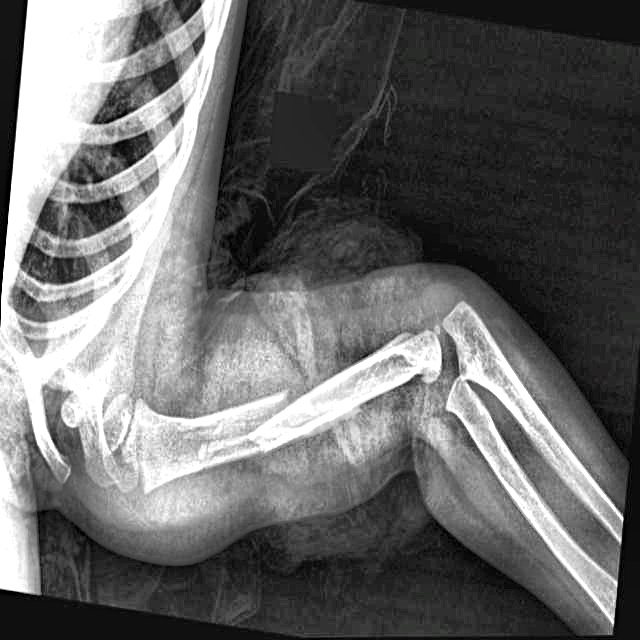Transverse: (232, 367, 319, 474)
